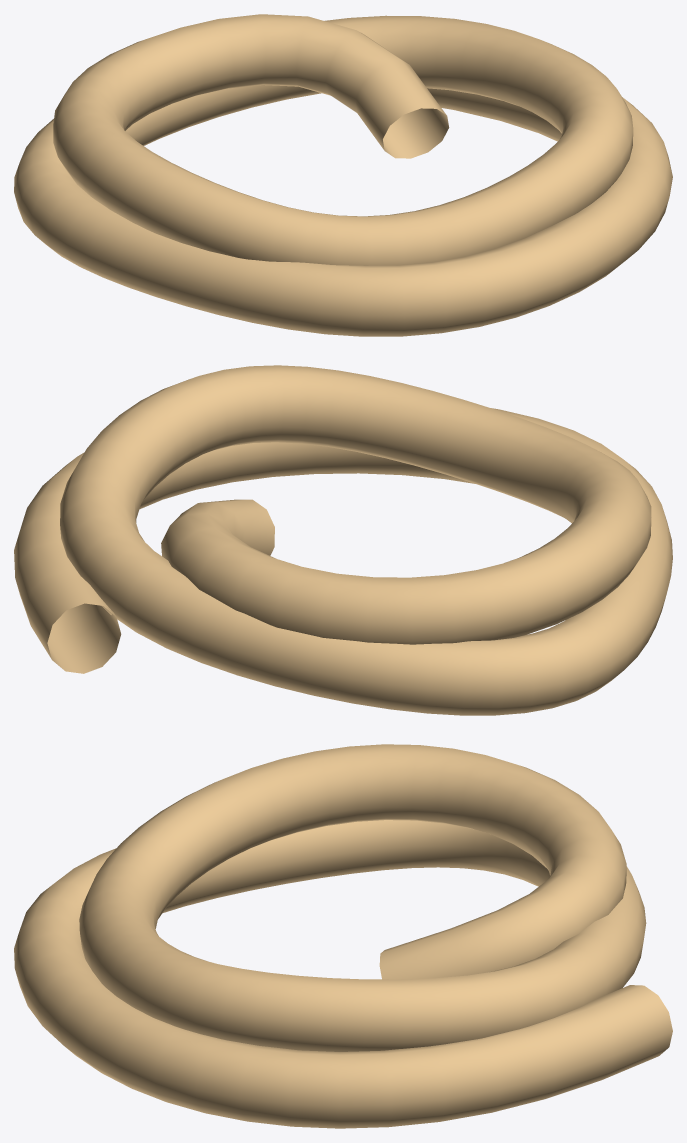
The model's file is LP_P_Rope.fbx.
3 renders of one model, top to bottom at view 1: azimuth 30°, elevation 25°; view 2: azimuth 150°, elevation 25°; view 3: azimuth 270°, elevation 25°, orthographic. The views are drawn at different scales.
Visible parts, largest first — view 1: LP_P_Rope; view 2: LP_P_Rope; view 3: LP_P_Rope.
Boxes of the visible parts, bbox=[...] form: LP_P_Rope: bbox=[14, 14, 672, 336]; LP_P_Rope: bbox=[14, 365, 672, 715]; LP_P_Rope: bbox=[14, 744, 672, 1128].
Size of the model in its own units: 35.91 by 7.52 by 34.23.
